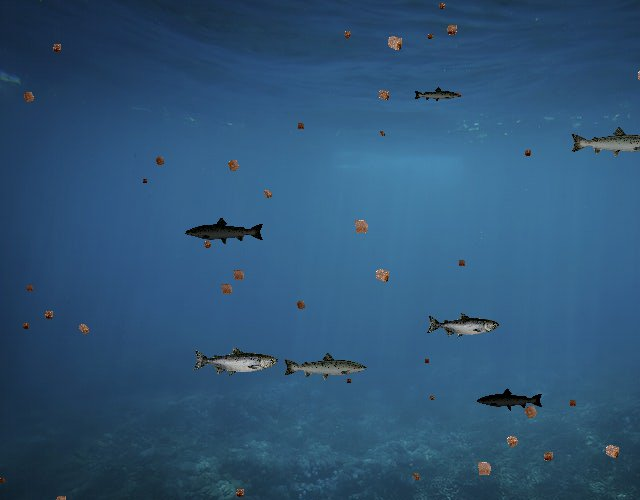Fish: (282, 351, 368, 382), (192, 346, 278, 377), (570, 126, 640, 160), (184, 217, 265, 246), (427, 312, 500, 338), (477, 388, 545, 412), (414, 86, 461, 103)
Pellet: (518, 399, 544, 425), (500, 429, 525, 454), (72, 318, 94, 340), (520, 146, 534, 160), (424, 31, 437, 44)
